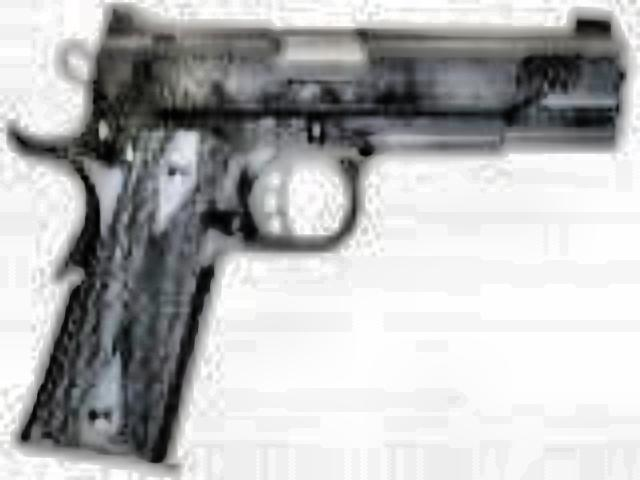pistol: (0, 12, 624, 468)
